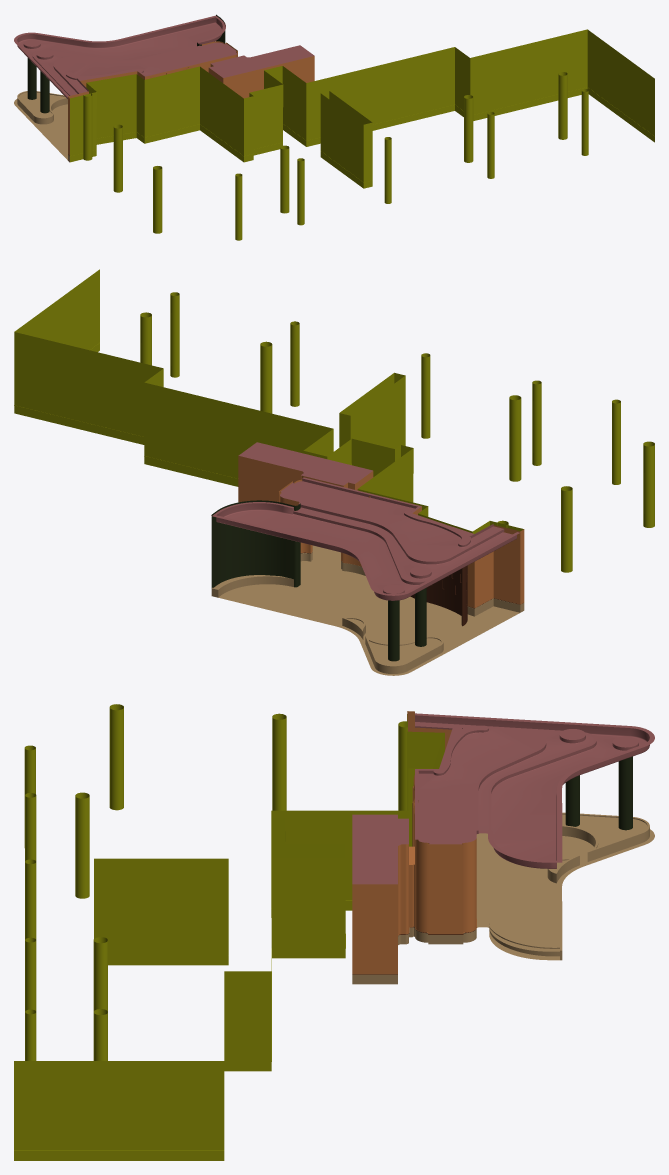
Rendered from ALL_SouthLobby_01.fbx.
3 views of the same model, one above another, from view 1: azimuth 30°, elevation 25°; view 2: azimuth 150°, elevation 25°; view 3: azimuth 270°, elevation 25° (orthographic). The views are drawn at different scales.
Parts seen in each view (by area): view 1: SM_SouthLobbySTR_06, SM_SouthLobbySTR_01, SM_SouthLobbySTR_04, SM_SouthLobbySTR_02, SM_SouthLobbySTR_05; view 2: SM_SouthLobbySTR_06, SM_SouthLobbySTR_01, SM_SouthLobbySTR_02, SM_SouthLobbySTR_04, SM_SouthLobbySTR_05, SM_SouthLobbySTR_03; view 3: SM_SouthLobbySTR_06, SM_SouthLobbySTR_01, SM_SouthLobbySTR_02, SM_SouthLobbySTR_04, SM_SouthLobbySTR_05.
Part boxes in pixels (left/top/right/bottom): SM_SouthLobbySTR_06: left=70, top=29, right=654, bottom=240; SM_SouthLobbySTR_01: left=14, top=15, right=314, bottom=98; SM_SouthLobbySTR_04: left=68, top=41, right=314, bottom=155; SM_SouthLobbySTR_02: left=14, top=91, right=69, bottom=162; SM_SouthLobbySTR_05: left=27, top=14, right=225, bottom=113; SM_SouthLobbySTR_06: left=14, top=269, right=654, bottom=572; SM_SouthLobbySTR_01: left=211, top=442, right=519, bottom=600; SM_SouthLobbySTR_02: left=211, top=545, right=524, bottom=675; SM_SouthLobbySTR_04: left=238, top=456, right=524, bottom=608; SM_SouthLobbySTR_05: left=211, top=500, right=426, bottom=661; SM_SouthLobbySTR_03: left=301, top=552, right=522, bottom=626; SM_SouthLobbySTR_06: left=14, top=704, right=444, bottom=1160; SM_SouthLobbySTR_01: left=352, top=713, right=654, bottom=884; SM_SouthLobbySTR_02: left=352, top=812, right=654, bottom=984; SM_SouthLobbySTR_04: left=352, top=711, right=476, bottom=974; SM_SouthLobbySTR_05: left=565, top=756, right=632, bottom=830.
Bounding box in the file's own units: 3559 × 471 × 2702.
